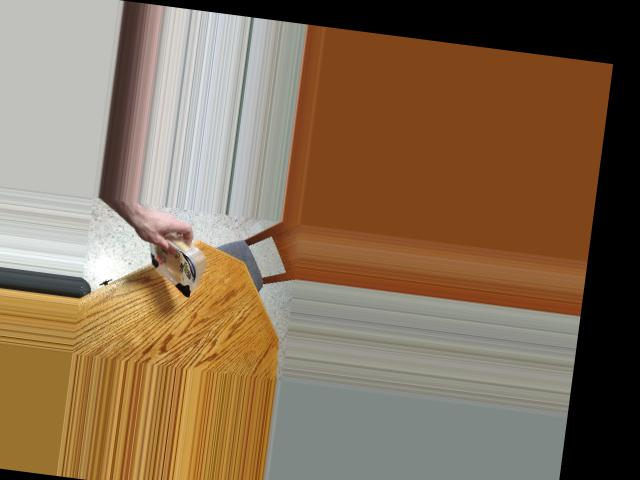cheese: (126, 230, 215, 296)
